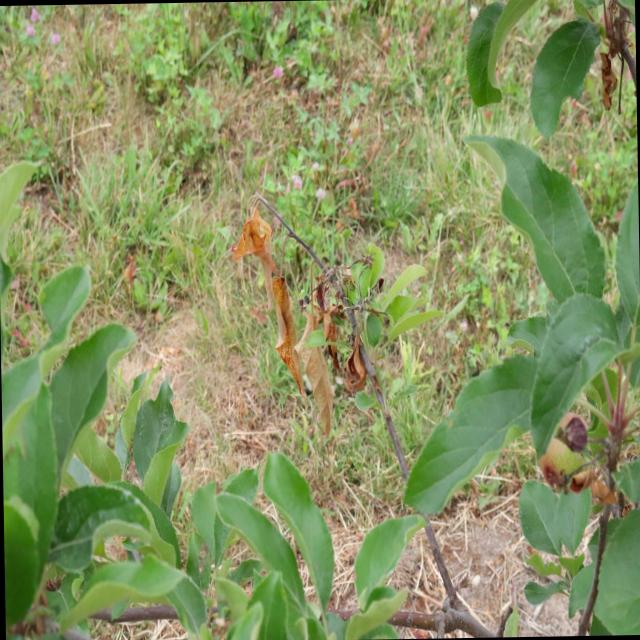-FireBlight-: (290, 299, 332, 436), (321, 284, 364, 396), (240, 202, 284, 309), (270, 272, 300, 386), (564, 454, 620, 504)
